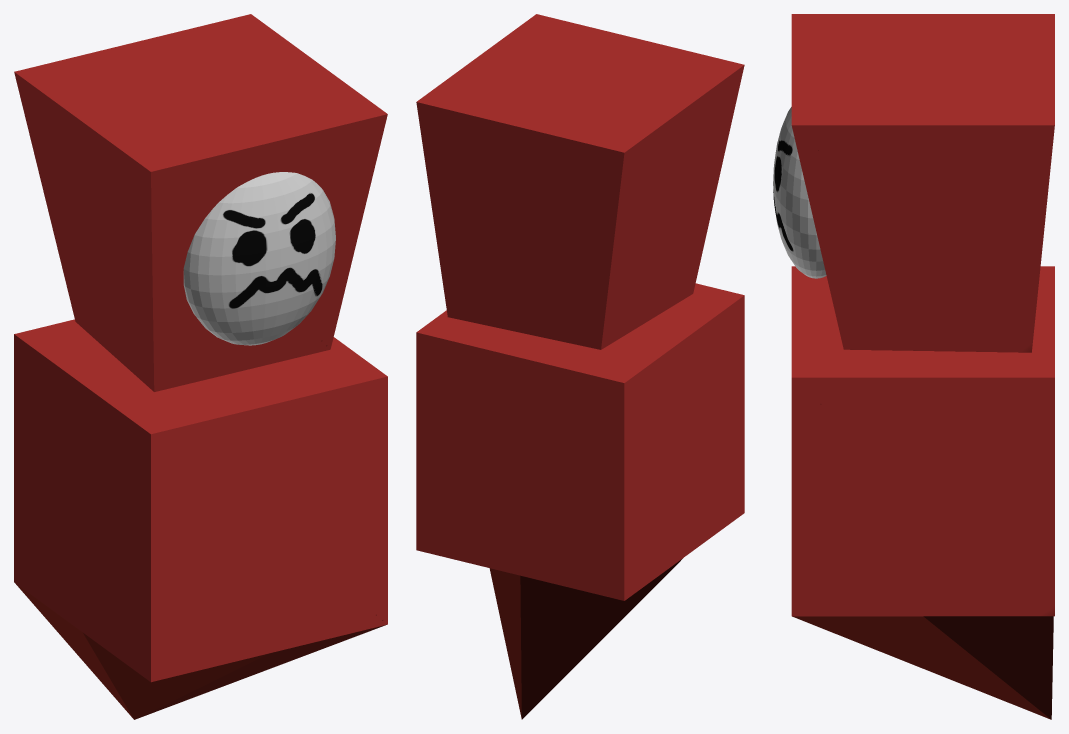
File: enemy.glb
The picture shows the model from 3 angles, left to right: view 1: azimuth 30°, elevation 25°; view 2: azimuth 150°, elevation 25°; view 3: azimuth 270°, elevation 25°; orthographic projection. The views are drawn at different scales.
Visible parts, largest first — view 1: Cube, Sphere; view 2: Cube; view 3: Cube, Sphere.
Part boxes in pixels (bbox=[...]): Cube: bbox=[14, 14, 387, 719]; Sphere: bbox=[183, 172, 335, 345]; Cube: bbox=[416, 14, 744, 719]; Cube: bbox=[791, 14, 1054, 719]; Sphere: bbox=[773, 107, 826, 278].
Bounding box in the file's own units: 2 × 5.45 × 2.14.
Materials: 2 (2 with a texture image).
